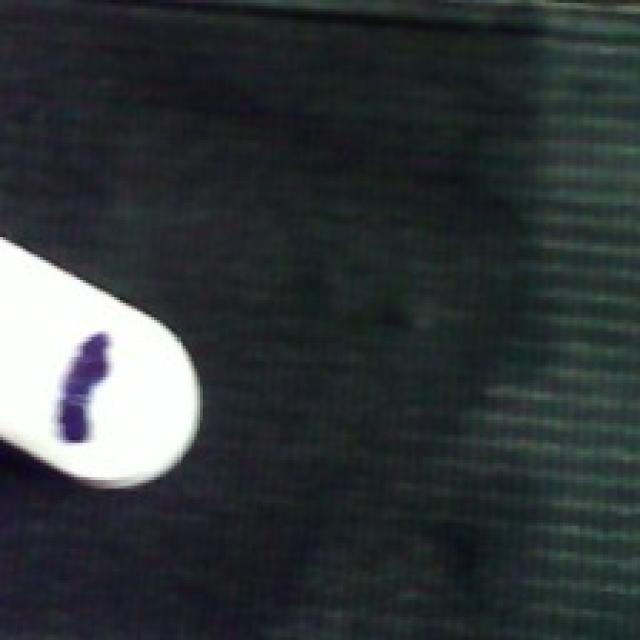defected: (0, 236, 209, 494)
